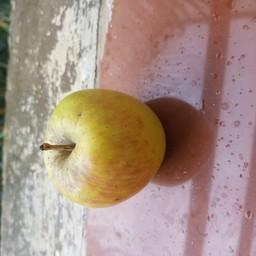Good_apple: (39, 85, 168, 209)
